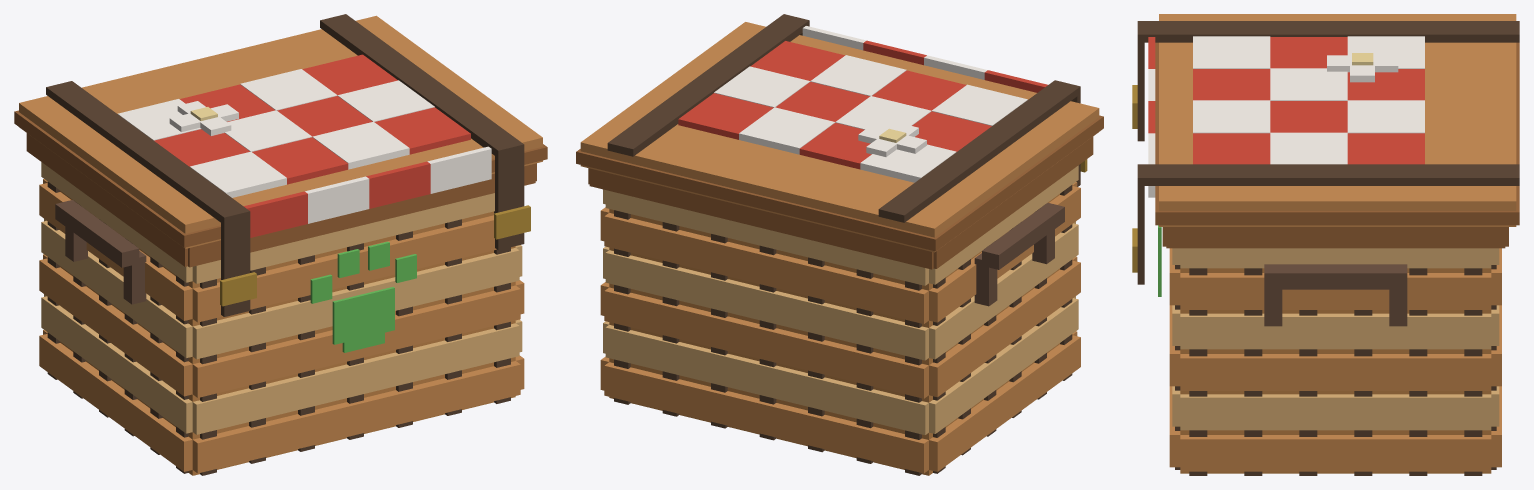
The model's file is CatCafe_Prop_Crate_Park.glb.
3 views of the same model, side by side, from view 1: azimuth 30°, elevation 25°; view 2: azimuth 150°, elevation 25°; view 3: azimuth 270°, elevation 25° (orthographic). The views are drawn at different scales.
Visible parts, largest first — view 1: CatCafe_Prop_Crate_Park, CatCafe_Prop_Crate_Park_Lid; view 2: CatCafe_Prop_Crate_Park, CatCafe_Prop_Crate_Park_Lid; view 3: CatCafe_Prop_Crate_Park, CatCafe_Prop_Crate_Park_Lid.
Part boxes in pixels (box(x1,y1,x2,y2)): CatCafe_Prop_Crate_Park: box(26, 133, 536, 475); CatCafe_Prop_Crate_Park_Lid: box(14, 14, 547, 316); CatCafe_Prop_Crate_Park: box(588, 137, 1093, 475); CatCafe_Prop_Crate_Park_Lid: box(576, 14, 1103, 252); CatCafe_Prop_Crate_Park: box(1158, 225, 1508, 475); CatCafe_Prop_Crate_Park_Lid: box(1132, 14, 1519, 284).
Bounding box in the file's own units: 2.68 × 1.84 × 2.17.
1 material, 1 textured.
